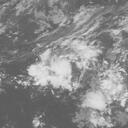cyclone: (27, 38, 100, 89)
